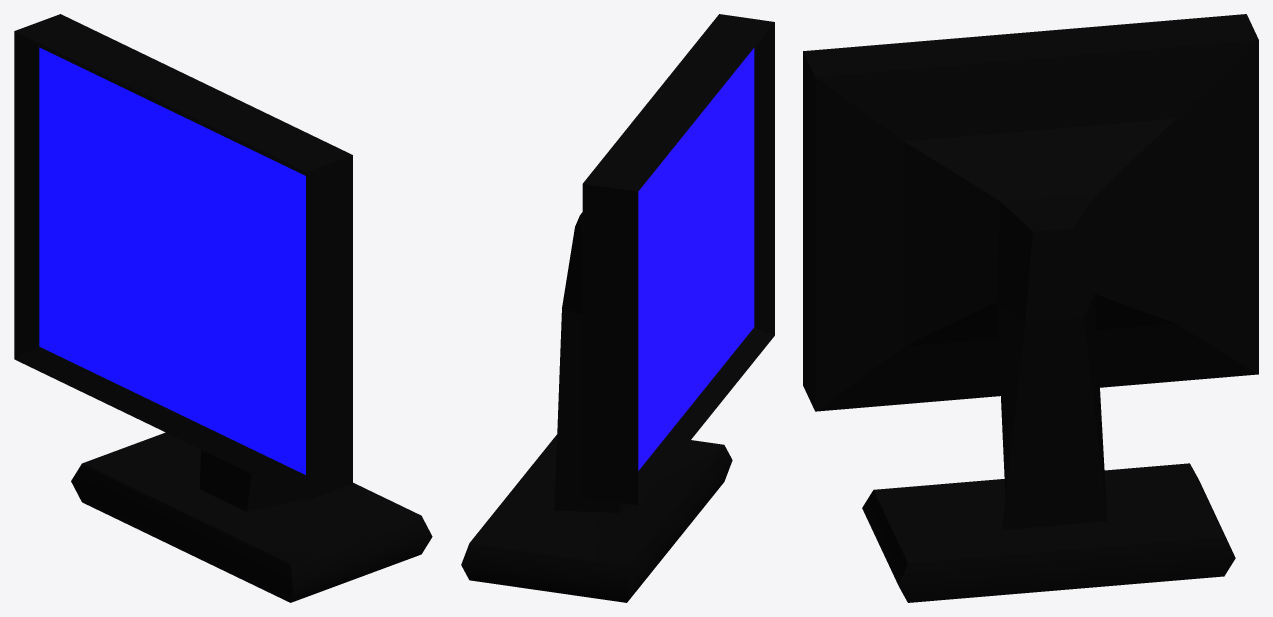
The model's file is Lab_Monitor.fbx.
3 renders of one model, left to right at view 1: azimuth 30°, elevation 25°; view 2: azimuth 150°, elevation 25°; view 3: azimuth 270°, elevation 25°, orthographic. The views are drawn at different scales.
Parts seen in each view (by area): view 1: pCube98; view 2: pCube98; view 3: pCube98.
Part boxes in pixels (x1=…): pCube98: x1=14, y1=14, x2=432, y2=602; pCube98: x1=461, y1=14, x2=774, y2=602; pCube98: x1=803, y1=14, x2=1258, y2=602.
Bounding box in the file's own units: 0.309 × 0.5494 × 0.4837.
